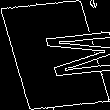M_W: (7, 28, 103, 82)
